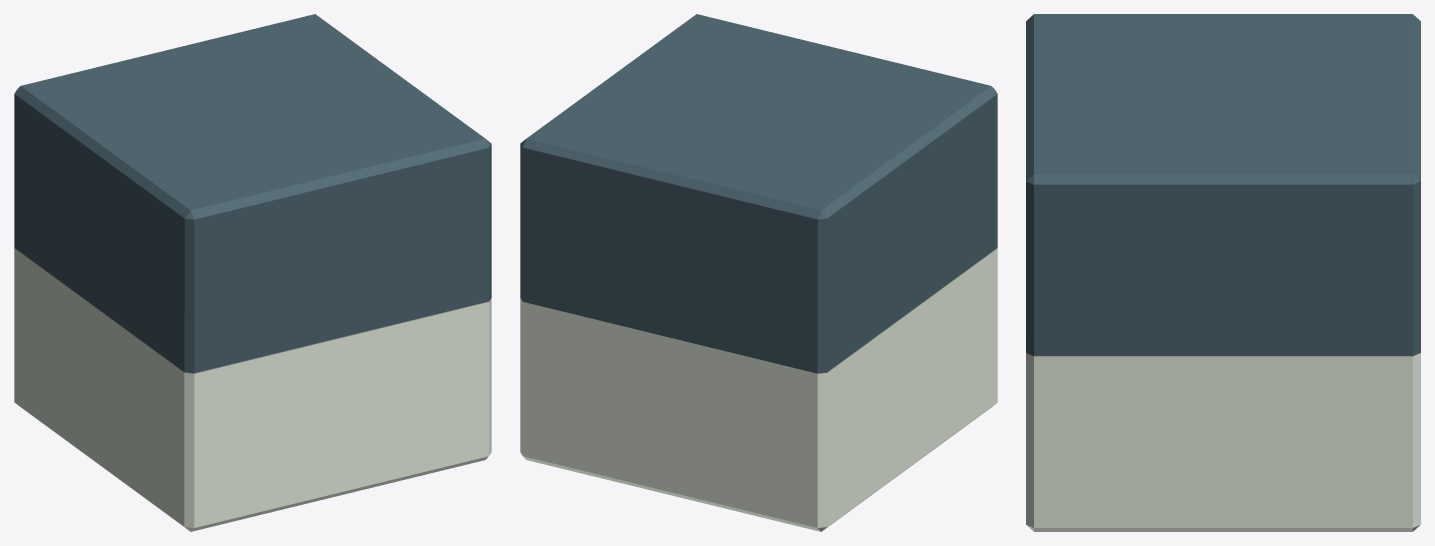
File: cell.fbx
3 renders of one model, left to right at view 1: azimuth 30°, elevation 25°; view 2: azimuth 150°, elevation 25°; view 3: azimuth 270°, elevation 25°, orthographic. The views are drawn at different scales.
Parts seen in each view (by area): view 1: BLUEWHITE; view 2: BLUEWHITE; view 3: BLUEWHITE.
Part boxes in pixels (<box>): BLUEWHITE: <box>14,14,491,531</box>; BLUEWHITE: <box>520,14,997,531</box>; BLUEWHITE: <box>1026,14,1420,531</box>.
Size of the model in its own units: 100 by 100 by 100.
